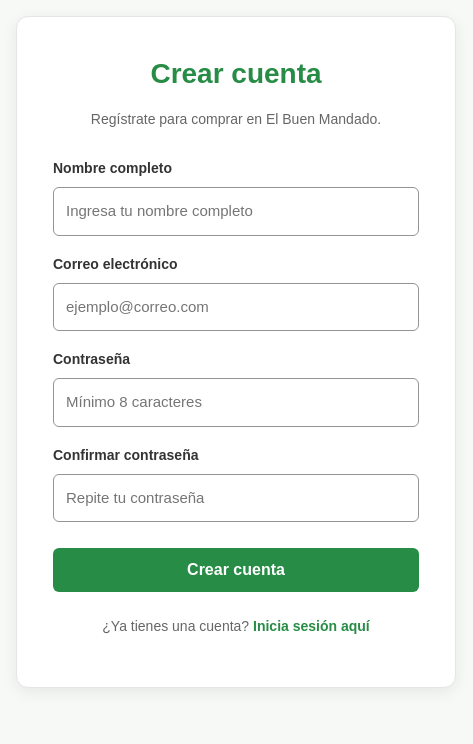
Test case: Register › muestra un error cuando las contraseñas no coinciden
Type "Usuario de prueba" into the field labelled "Nombre completo" at (236,211), box left=53, top=187, right=419, bottom=236
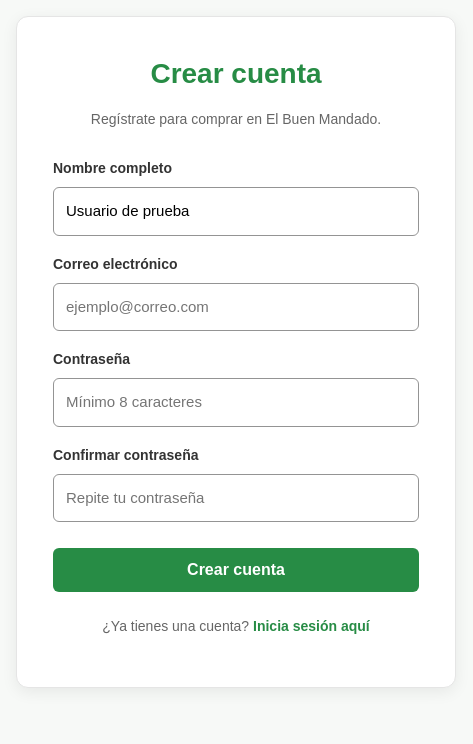
Type "usuario@correo.com" into the field labelled "Correo electrónico" at (236,307), box left=53, top=282, right=419, bottom=331
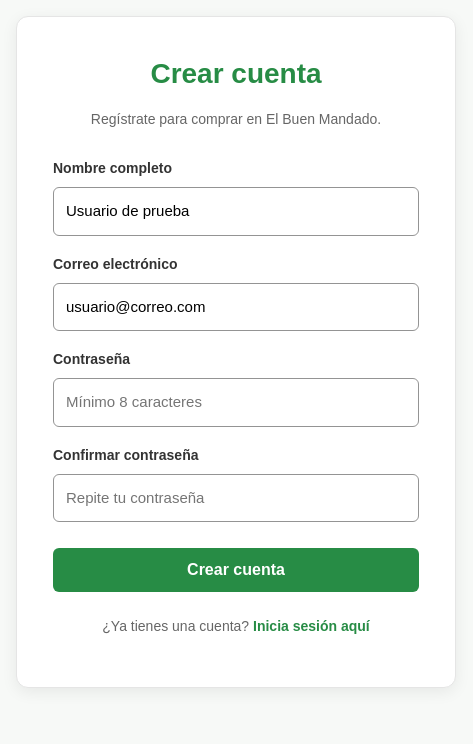
Type "prueba123" into the password field labelled "Contraseña" at (236,402), box left=53, top=378, right=419, bottom=426
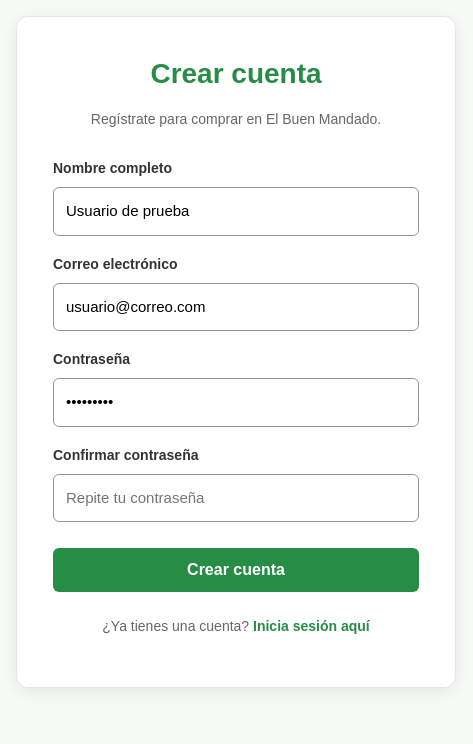
Type "diferente123" into the password field labelled "Confirmar contraseña" at (236,498), box left=53, top=474, right=419, bottom=522
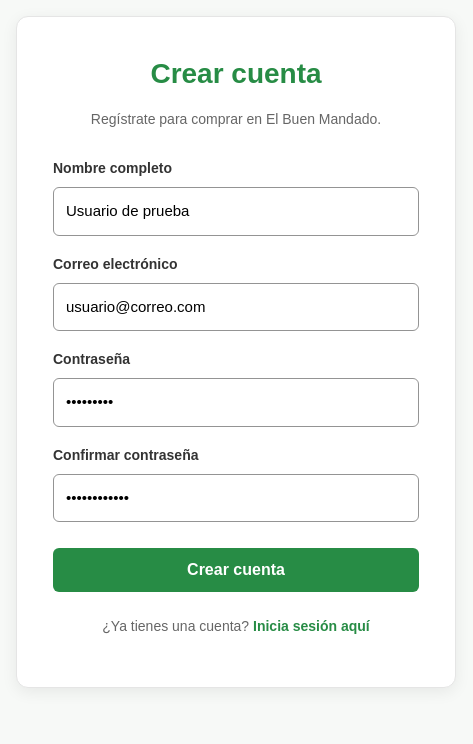
Click the button "Crear cuenta" at (236,570), box left=53, top=548, right=419, bottom=592
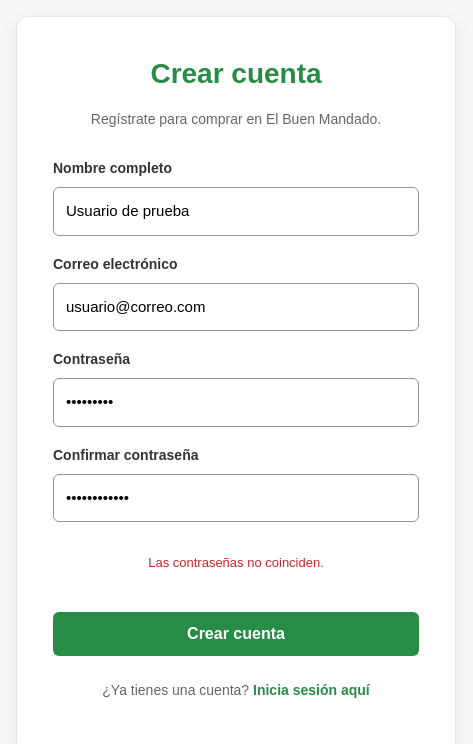
Expected: the message reads "Las contraseñas no coinciden.", left=148, top=555, right=324, bottom=570
